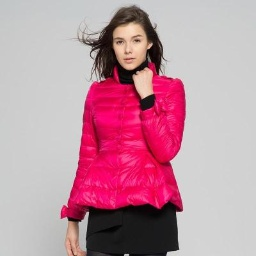face: (81, 1, 171, 85)
